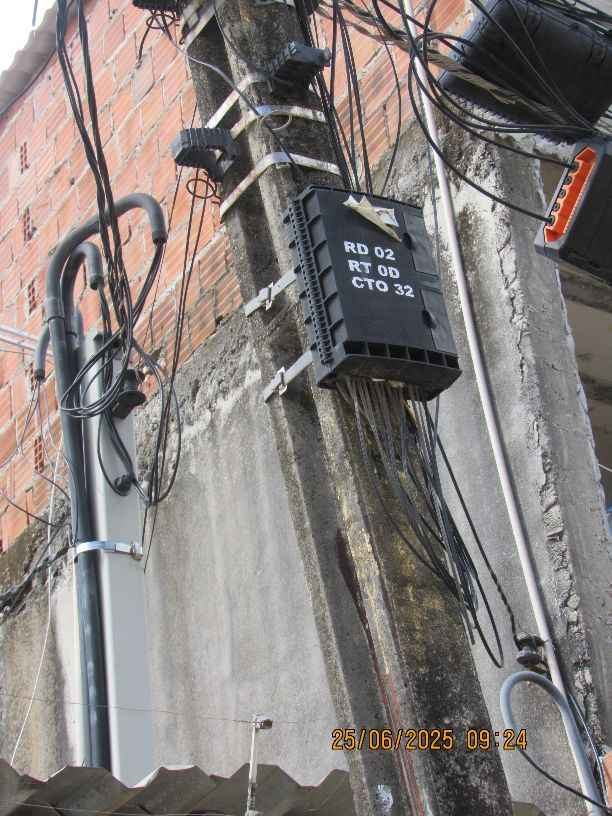caixa_derivacao: (271, 173, 463, 403), (413, 5, 608, 140), (506, 137, 612, 301)
